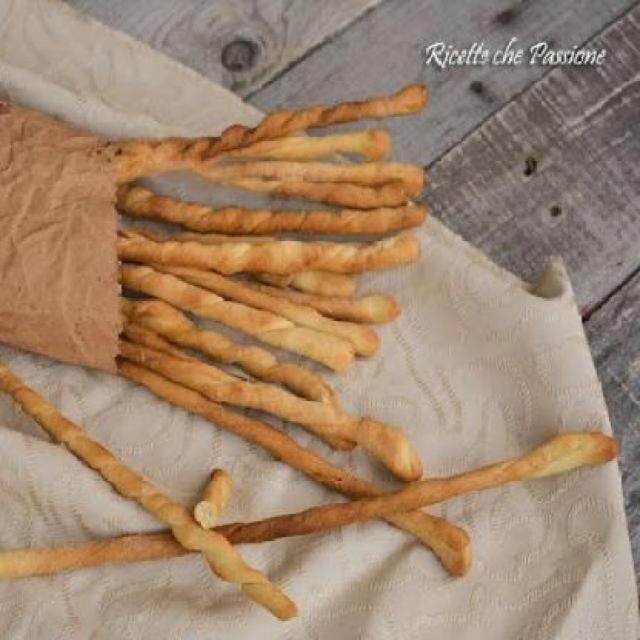Grissini: (106, 78, 483, 570)
